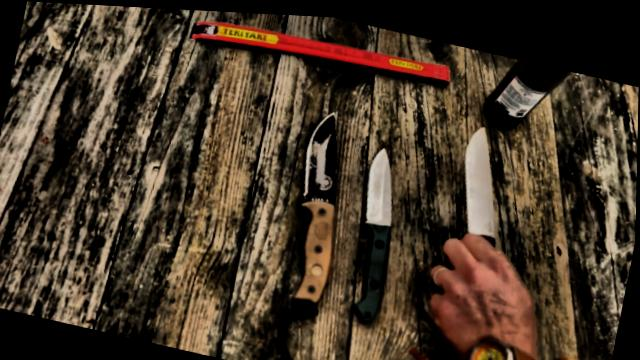knife: (416, 105, 560, 333), (288, 91, 364, 222), (351, 131, 413, 234)
